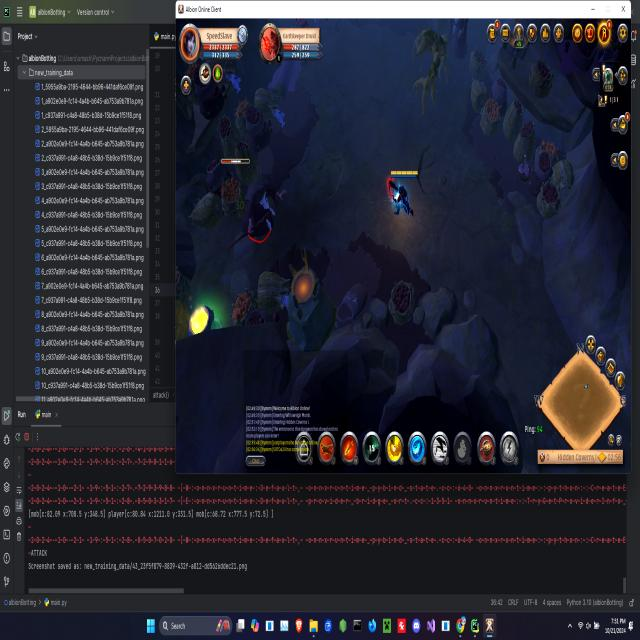fiber: (182, 307, 227, 337)
ore: (213, 155, 287, 245), (408, 29, 451, 110), (447, 19, 472, 65)
red: (386, 166, 421, 220)
